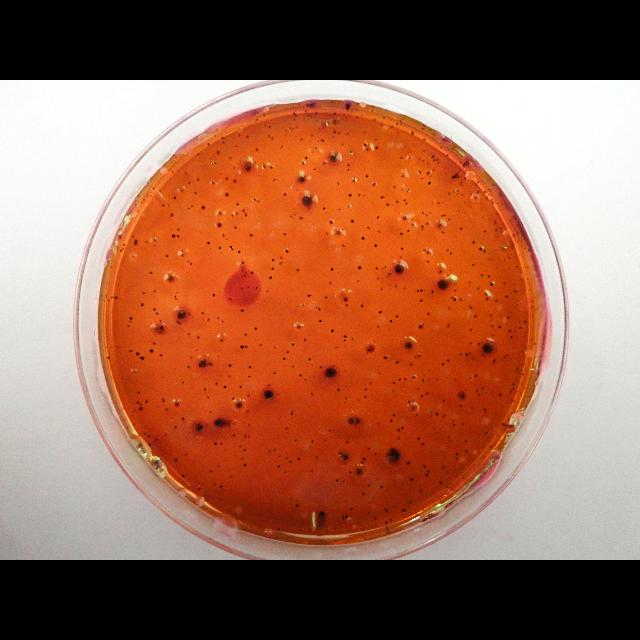colony: (386, 446, 402, 464), (316, 504, 328, 524), (299, 194, 315, 208), (209, 417, 227, 429), (324, 367, 338, 379), (482, 342, 496, 354), (436, 278, 449, 290), (262, 389, 274, 401), (195, 421, 207, 433), (394, 263, 406, 275), (244, 160, 254, 172), (177, 308, 187, 320), (296, 175, 308, 185), (329, 152, 339, 164), (198, 358, 208, 369), (156, 324, 166, 334), (172, 399, 182, 408), (402, 341, 413, 349), (347, 416, 355, 426), (356, 466, 364, 476), (458, 392, 466, 401), (500, 243, 510, 250), (350, 176, 358, 184), (344, 102, 352, 110), (451, 172, 459, 180), (216, 210, 224, 217), (167, 276, 176, 282), (343, 453, 349, 461), (354, 416, 360, 424), (138, 355, 146, 361), (235, 402, 242, 408), (335, 230, 341, 237), (224, 192, 230, 198), (216, 222, 222, 228), (284, 248, 290, 254), (296, 324, 302, 330), (348, 150, 354, 156), (410, 130, 416, 136), (437, 221, 443, 227), (411, 374, 417, 380), (372, 180, 376, 188), (233, 178, 237, 184), (200, 206, 206, 210), (344, 296, 348, 302), (310, 438, 314, 444), (361, 235, 365, 241), (282, 192, 288, 196), (141, 302, 145, 308), (208, 362, 214, 366), (223, 384, 227, 390), (181, 380, 185, 386), (160, 398, 166, 402), (144, 398, 148, 404), (138, 406, 144, 410), (174, 424, 178, 430), (212, 292, 216, 298), (270, 164, 274, 170), (324, 120, 328, 126), (333, 118, 337, 124), (430, 155, 436, 159), (418, 170, 422, 176), (426, 170, 430, 176), (427, 180, 431, 186), (407, 188, 411, 194), (402, 216, 408, 220), (441, 213, 447, 217), (459, 226, 463, 232), (482, 248, 486, 254), (490, 281, 494, 287), (419, 324, 423, 330), (392, 380, 396, 386), (392, 412, 396, 418), (416, 436, 420, 442), (406, 461, 412, 465), (423, 464, 427, 470), (298, 527, 302, 533), (276, 526, 280, 532), (220, 484, 224, 490), (132, 368, 136, 374), (129, 348, 133, 354), (150, 348, 154, 354), (422, 148, 426, 154), (512, 232, 516, 238), (419, 488, 423, 494), (481, 272, 484, 278), (511, 242, 514, 248), (262, 165, 266, 169), (228, 156, 232, 160), (216, 150, 220, 154), (173, 196, 177, 200), (218, 246, 222, 250), (241, 261, 245, 265), (265, 290, 269, 294), (278, 262, 282, 266), (296, 268, 300, 272), (324, 295, 328, 299), (343, 334, 347, 338), (282, 357, 286, 361), (240, 345, 244, 349), (248, 374, 252, 378), (228, 364, 232, 368), (276, 392, 280, 396), (214, 442, 218, 446), (294, 438, 298, 442), (345, 440, 349, 444), (338, 451, 342, 455), (310, 392, 314, 396), (342, 338, 346, 342), (378, 310, 382, 314), (358, 266, 362, 270), (330, 267, 334, 271), (342, 244, 346, 248), (374, 243, 378, 247), (350, 220, 354, 224), (348, 193, 352, 197), (299, 216, 303, 220), (329, 220, 333, 224), (171, 234, 175, 238), (153, 238, 157, 242), (149, 271, 153, 275), (153, 289, 157, 293), (153, 307, 157, 311), (165, 408, 169, 412), (148, 443, 152, 447), (240, 308, 244, 312), (253, 197, 257, 201), (304, 156, 308, 160), (272, 178, 276, 182), (347, 168, 351, 172), (300, 138, 304, 142), (270, 136, 274, 140), (268, 125, 272, 129), (246, 135, 250, 139), (238, 133, 242, 137), (207, 142, 211, 146), (196, 152, 200, 156), (306, 114, 310, 118), (317, 126, 321, 130), (354, 108, 358, 112), (363, 143, 367, 147), (366, 147, 370, 151), (375, 146, 379, 150), (374, 138, 378, 142), (382, 116, 386, 120), (421, 127, 425, 131), (422, 137, 426, 141), (399, 156, 403, 160), (401, 174, 405, 178), (392, 185, 396, 189), (403, 198, 407, 202), (386, 203, 390, 207), (422, 248, 426, 252), (426, 250, 430, 254), (438, 270, 442, 274), (419, 299, 423, 303), (426, 312, 430, 316), (402, 286, 406, 290), (472, 240, 476, 244), (478, 246, 482, 250), (502, 282, 506, 286), (513, 289, 517, 293), (505, 294, 509, 298), (494, 299, 498, 303), (484, 292, 488, 296), (485, 297, 489, 301), (468, 280, 472, 284), (398, 378, 402, 382), (394, 393, 398, 397), (401, 426, 405, 430), (374, 452, 378, 456), (425, 473, 429, 477), (409, 477, 413, 481), (408, 500, 412, 504), (380, 485, 384, 489), (361, 492, 365, 496), (344, 515, 348, 519), (384, 508, 388, 512), (402, 508, 406, 512), (385, 520, 389, 524), (295, 504, 299, 508), (213, 482, 217, 486), (181, 474, 185, 478), (174, 458, 178, 462), (184, 453, 188, 457), (107, 355, 111, 359), (136, 352, 140, 356), (152, 342, 156, 346), (228, 297, 232, 301), (408, 156, 412, 160), (462, 163, 466, 167), (474, 196, 478, 200), (483, 230, 487, 234), (494, 228, 498, 232), (514, 265, 518, 269), (498, 325, 502, 329), (508, 329, 512, 333), (510, 335, 514, 339), (492, 358, 496, 362), (512, 382, 516, 386), (509, 390, 513, 394), (498, 393, 502, 397), (474, 374, 478, 378), (442, 399, 446, 403), (421, 378, 425, 382), (459, 352, 463, 356), (464, 353, 468, 357), (502, 422, 506, 426), (464, 439, 468, 443), (464, 449, 468, 453), (442, 413, 446, 417), (435, 412, 439, 416), (455, 452, 459, 456), (425, 391, 429, 395), (290, 412, 294, 416), (438, 481, 442, 485), (335, 478, 339, 482), (314, 455, 318, 459), (129, 316, 133, 320), (126, 324, 130, 328), (363, 457, 367, 461), (310, 469, 314, 473), (256, 146, 258, 152), (197, 178, 200, 182), (185, 171, 188, 175), (195, 191, 198, 195), (170, 213, 173, 217), (140, 200, 144, 203), (235, 226, 238, 230), (207, 241, 210, 245), (250, 271, 253, 275), (361, 304, 364, 308), (331, 329, 334, 333), (286, 351, 290, 354), (255, 326, 258, 330), (244, 462, 246, 468), (381, 286, 383, 292), (376, 276, 379, 280), (322, 207, 326, 210), (242, 208, 245, 212), (177, 234, 180, 238), (165, 255, 169, 258), (177, 320, 180, 324), (207, 318, 210, 322), (217, 316, 220, 320), (220, 319, 223, 323), (220, 338, 223, 342), (136, 401, 140, 404), (165, 433, 168, 437), (234, 212, 240, 214), (336, 181, 339, 185), (346, 163, 349, 167), (235, 144, 238, 148), (292, 126, 294, 132), (346, 132, 349, 136), (390, 125, 394, 128), (396, 131, 399, 135), (421, 176, 424, 180), (381, 196, 384, 200), (376, 215, 379, 219), (400, 232, 404, 235), (426, 260, 429, 264), (416, 289, 419, 293), (476, 286, 479, 290), (451, 296, 454, 300), (454, 296, 456, 302), (460, 296, 462, 302), (391, 419, 394, 423), (421, 442, 424, 446), (426, 470, 429, 474), (217, 464, 220, 468), (456, 189, 459, 193), (492, 182, 496, 185), (491, 258, 494, 262), (518, 326, 522, 329), (492, 361, 496, 364), (516, 366, 518, 372), (512, 386, 516, 389), (511, 398, 514, 402), (478, 392, 480, 398), (446, 358, 449, 362), (416, 387, 419, 391), (421, 394, 424, 398), (366, 348, 369, 352), (432, 426, 436, 429), (446, 471, 449, 475), (348, 471, 352, 474), (237, 202, 240, 205), (230, 215, 233, 218), (421, 225, 424, 228), (426, 222, 429, 225), (476, 190, 479, 193), (461, 180, 464, 183), (496, 212, 499, 215), (226, 177, 228, 181), (162, 203, 164, 207), (223, 233, 225, 237), (230, 246, 232, 250), (238, 250, 240, 254), (241, 286, 243, 290), (270, 276, 272, 280), (272, 258, 274, 262), (280, 256, 282, 260), (307, 294, 311, 296), (318, 320, 322, 322), (334, 346, 338, 348), (304, 338, 306, 342), (292, 342, 294, 346), (298, 374, 302, 376), (260, 343, 262, 347), (244, 346, 248, 348), (228, 374, 230, 378), (240, 384, 242, 388), (182, 417, 184, 421), (220, 442, 222, 446), (244, 448, 246, 452), (244, 434, 246, 438), (242, 456, 244, 460), (269, 449, 271, 453), (274, 448, 276, 452), (278, 454, 280, 458), (278, 464, 280, 468), (290, 460, 292, 464), (298, 457, 300, 461), (284, 428, 288, 430), (329, 429, 331, 433), (324, 438, 326, 442), (378, 421, 380, 425), (364, 394, 366, 398), (364, 388, 368, 390), (338, 388, 340, 392), (390, 319, 392, 323), (396, 314, 398, 318), (388, 272, 390, 276), (395, 284, 397, 288), (376, 266, 378, 270), (328, 282, 332, 284), (337, 208, 341, 210), (290, 216, 294, 218), (177, 228, 181, 230), (152, 244, 156, 246), (134, 240, 138, 242), (134, 242, 138, 244), (120, 249, 122, 253), (182, 253, 184, 257), (142, 292, 146, 294), (174, 294, 176, 298), (175, 298, 177, 302), (156, 312, 158, 316), (158, 320, 162, 322), (180, 322, 182, 326), (197, 335, 199, 339), (188, 332, 190, 336), (217, 354, 219, 358), (204, 388, 206, 392), (216, 382, 218, 386), (148, 434, 150, 438), (144, 432, 146, 436), (154, 438, 158, 440), (138, 390, 140, 394), (274, 345, 276, 349), (258, 200, 260, 204), (314, 167, 316, 171), (322, 162, 326, 164), (301, 162, 305, 164), (366, 174, 368, 178), (268, 134, 270, 138), (222, 136, 224, 140), (281, 144, 283, 148), (310, 134, 314, 136), (290, 126, 292, 130), (286, 128, 288, 132), (292, 112, 296, 114), (316, 111, 318, 115), (316, 118, 318, 122), (314, 146, 318, 148), (334, 130, 336, 134), (337, 131, 339, 135), (356, 115, 358, 119), (362, 132, 366, 134), (380, 123, 382, 127), (396, 122, 398, 126), (432, 132, 434, 136), (440, 146, 442, 150), (419, 157, 421, 161), (422, 159, 424, 163), (432, 168, 434, 172), (404, 202, 408, 204), (406, 230, 410, 232), (426, 213, 428, 217), (448, 217, 450, 221), (444, 230, 446, 234), (441, 230, 443, 234), (449, 252, 453, 254), (432, 290, 434, 294), (420, 289, 422, 293), (438, 201, 440, 205), (448, 191, 450, 195), (472, 262, 474, 266), (488, 274, 490, 278), (458, 275, 460, 279), (454, 288, 456, 292), (448, 306, 450, 310), (468, 304, 470, 308), (470, 306, 472, 310), (422, 322, 424, 326), (418, 353, 420, 357), (414, 356, 418, 358), (410, 362, 412, 366), (383, 356, 387, 358), (404, 377, 406, 381), (408, 400, 410, 404), (398, 428, 400, 432), (398, 436, 400, 440), (368, 484, 370, 488), (342, 516, 344, 520), (374, 516, 376, 520), (390, 518, 392, 522), (230, 475, 232, 479), (210, 469, 212, 473), (159, 354, 163, 356), (256, 286, 258, 290), (262, 114, 266, 116), (256, 118, 258, 122), (264, 123, 266, 127), (433, 158, 435, 162), (436, 158, 438, 162), (446, 153, 448, 157), (464, 176, 466, 180), (477, 180, 479, 184), (461, 193, 463, 197), (482, 216, 484, 220), (494, 218, 496, 222), (504, 258, 506, 262), (488, 257, 490, 261), (508, 256, 510, 260), (526, 277, 528, 281), (490, 313, 492, 317), (491, 324, 493, 328), (524, 320, 528, 322), (512, 330, 516, 332), (530, 338, 532, 342), (502, 356, 506, 358), (522, 372, 524, 376), (484, 407, 486, 411), (482, 386, 484, 390), (460, 404, 462, 408), (465, 388, 467, 392), (442, 362, 444, 366), (468, 352, 472, 354), (468, 342, 472, 344), (478, 342, 480, 346), (469, 328, 473, 330), (474, 314, 476, 318), (447, 324, 449, 328), (530, 306, 534, 308), (454, 378, 456, 382), (484, 432, 486, 436), (489, 444, 491, 448), (462, 422, 464, 426), (415, 413, 417, 417), (448, 435, 450, 439), (456, 456, 458, 460), (452, 424, 456, 426), (428, 378, 430, 382), (442, 465, 444, 469), (446, 485, 448, 489), (386, 524, 388, 528), (386, 528, 390, 530), (129, 320, 133, 322), (114, 296, 118, 298), (110, 296, 114, 298), (362, 460, 364, 464), (212, 180, 214, 183), (172, 170, 174, 173), (152, 187, 154, 190), (137, 195, 139, 198), (135, 202, 137, 205), (247, 286, 250, 288), (351, 336, 353, 339), (247, 394, 250, 396), (232, 398, 235, 400), (210, 411, 212, 414), (286, 456, 288, 459), (284, 471, 286, 474), (345, 396, 347, 399), (356, 280, 359, 282), (366, 226, 369, 228), (348, 205, 350, 208), (294, 212, 296, 215), (284, 232, 286, 235), (245, 215, 247, 218), (146, 240, 148, 243), (132, 235, 134, 238), (190, 356, 193, 358), (187, 366, 190, 368), (222, 142, 225, 144), (296, 125, 298, 128), (334, 112, 336, 115), (396, 200, 398, 203), (412, 222, 414, 225), (421, 228, 424, 230), (401, 248, 404, 250), (396, 361, 398, 364), (506, 316, 509, 318), (486, 431, 488, 434), (471, 406, 474, 408), (431, 452, 434, 454), (214, 162, 216, 164), (211, 162, 213, 164), (188, 182, 190, 184), (181, 189, 183, 191), (191, 205, 193, 207), (188, 208, 190, 210), (143, 198, 145, 200), (135, 200, 137, 202), (159, 190, 161, 192), (147, 195, 149, 197), (147, 200, 149, 202), (168, 204, 170, 206), (250, 234, 252, 236), (226, 238, 228, 240), (244, 274, 246, 276), (245, 271, 247, 273), (272, 268, 274, 270), (281, 261, 283, 263), (316, 306, 318, 308), (318, 308, 320, 310), (302, 304, 304, 306), (346, 304, 348, 306), (308, 358, 310, 360), (320, 366, 322, 368), (304, 379, 306, 381), (292, 366, 294, 368), (274, 372, 276, 374), (244, 334, 246, 336), (249, 366, 251, 368), (268, 384, 270, 386), (247, 410, 249, 412), (248, 424, 250, 426), (207, 423, 209, 425), (233, 434, 235, 436), (239, 445, 241, 447), (248, 436, 250, 438), (370, 382, 372, 384), (377, 326, 379, 328), (384, 266, 386, 268), (381, 268, 383, 270), (378, 230, 380, 232), (358, 194, 360, 196), (342, 228, 344, 230), (326, 232, 328, 234), (123, 244, 125, 246), (122, 247, 124, 249), (110, 266, 112, 268), (187, 260, 189, 262), (190, 263, 192, 265), (202, 312, 204, 314), (295, 114, 297, 116), (293, 118, 295, 120), (305, 110, 307, 112), (317, 140, 319, 142), (320, 138, 322, 140), (322, 140, 324, 142), (342, 144, 344, 146), (333, 136, 335, 138), (343, 114, 345, 116), (351, 110, 353, 112), (400, 120, 402, 122), (422, 212, 424, 214), (446, 249, 448, 251), (378, 372, 380, 374), (392, 390, 394, 392), (368, 448, 370, 450), (350, 508, 352, 510), (198, 488, 200, 490), (438, 162, 440, 164), (475, 184, 477, 186), (486, 197, 488, 199), (458, 210, 460, 212), (500, 228, 502, 230), (494, 222, 496, 224), (520, 278, 522, 280), (506, 354, 508, 356), (476, 390, 478, 392), (436, 378, 438, 380), (471, 358, 473, 360), (492, 334, 494, 336), (430, 415, 432, 417), (449, 439, 451, 441), (374, 341, 376, 343), (291, 410, 293, 412), (452, 420, 454, 422), (452, 488, 454, 490), (429, 494, 431, 496), (334, 528, 336, 530), (342, 480, 344, 482), (108, 299, 110, 301), (401, 256, 402, 258), (208, 396, 208, 398), (502, 230, 502, 233)
